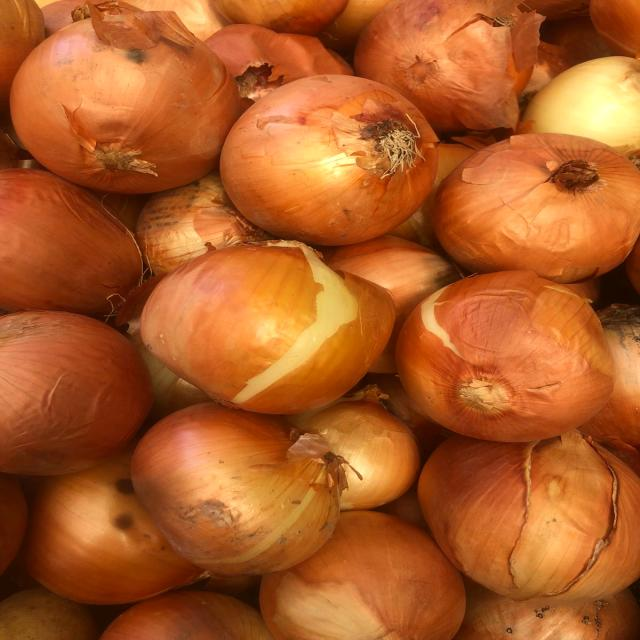onion: (122, 223, 402, 428), (389, 248, 640, 455), (0, 11, 265, 205), (125, 392, 383, 586), (212, 67, 457, 248), (420, 113, 640, 289)
